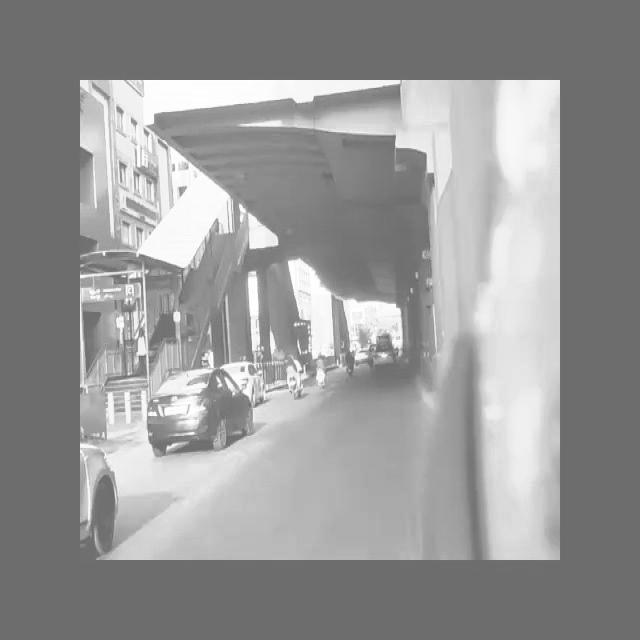Car: (144, 364, 255, 454)
